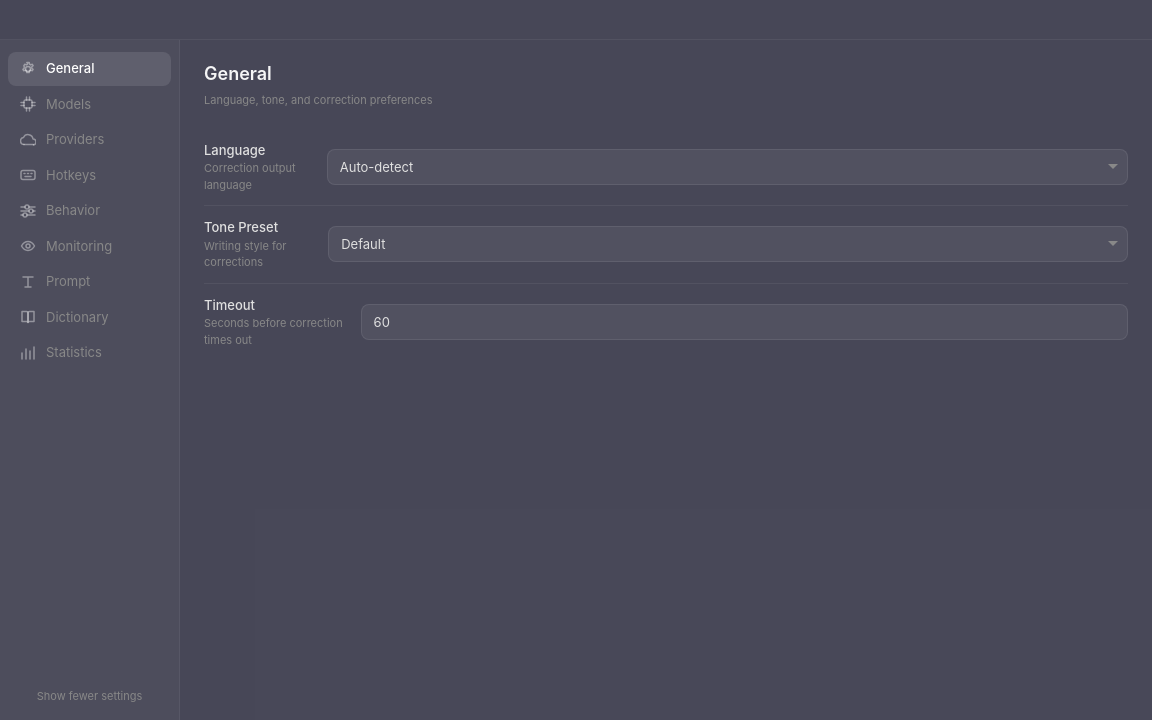
it: Settings component › Behavior section hides auto-paste delay when diffPreviewMode is none
expect the navigation bar is shown: met, box top-left (0, 40), bottom-right (180, 719)
Click the button "Behavior" at (90, 211), box top-left (8, 194), bottom-right (171, 228)
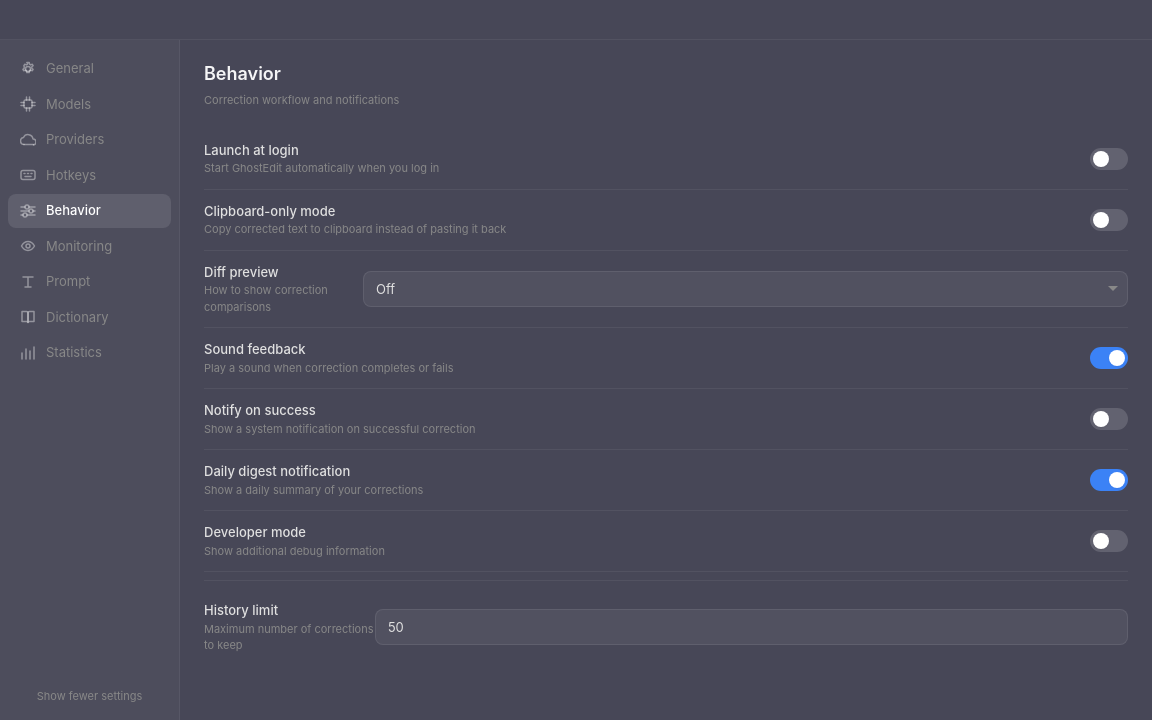
expect the text "Diff preview" is shown: met, box top-left (204, 264), bottom-right (279, 280)
